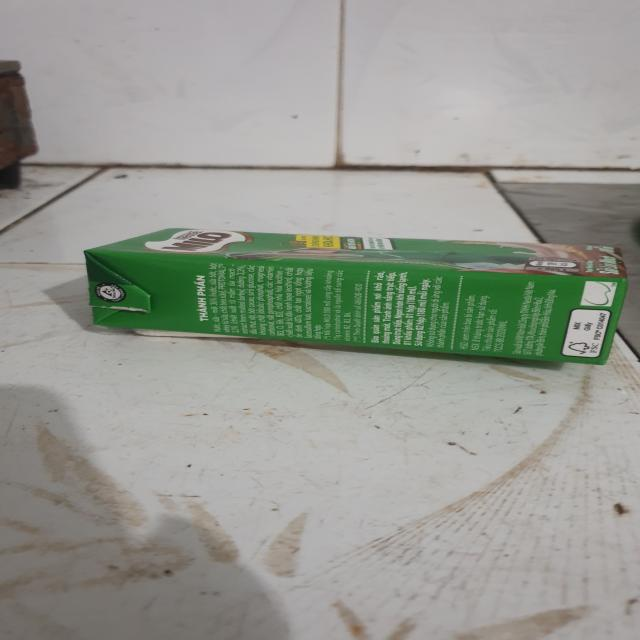Milo: (86, 231, 628, 366)
